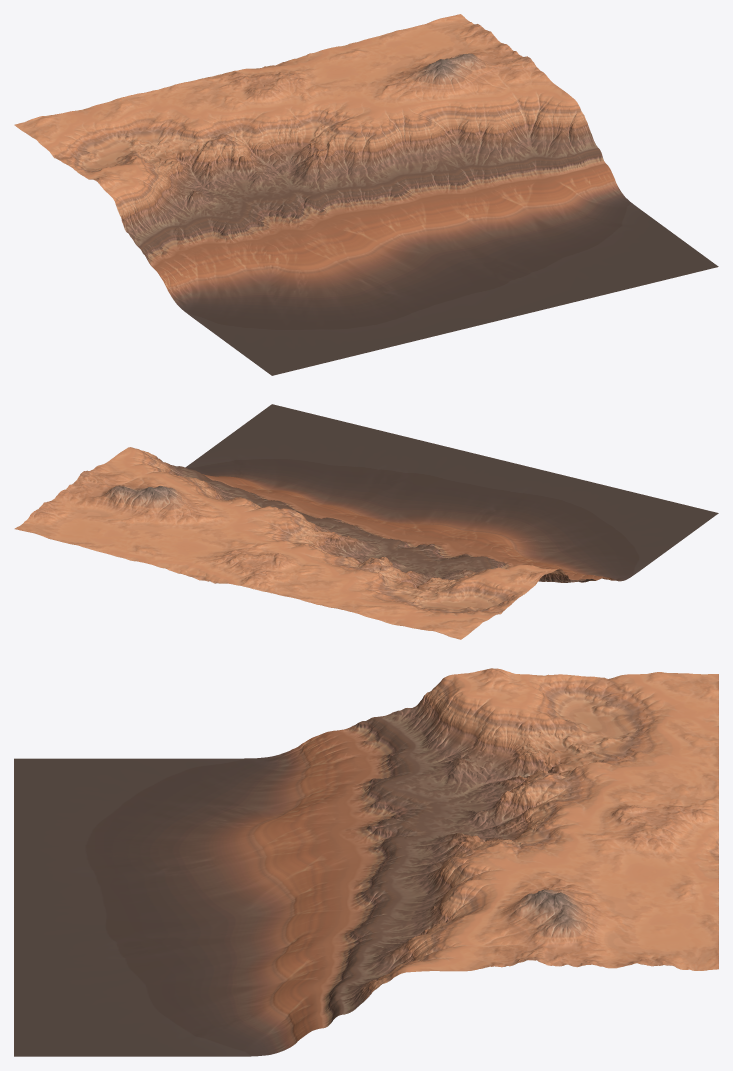
The model's file is canyon_cliff_face_low_poly.glb.
3 renders of one model, top to bottom at view 1: azimuth 30°, elevation 25°; view 2: azimuth 150°, elevation 25°; view 3: azimuth 270°, elevation 25°, orthographic. The views are drawn at different scales.
Visible parts, largest first — view 1: Object_2, Object_3, Object_4, Object_6, Object_5, Object_7; view 2: Object_2, Object_3, Object_4, Object_6, Object_5, Object_7; view 3: Object_2, Object_3, Object_4, Object_6, Object_5, Object_7.
Boxes of the visible parts, left/top/right/bottom form: Object_2: left=14, top=14, right=718, bottom=375; Object_3: left=33, top=41, right=588, bottom=235; Object_4: left=26, top=19, right=520, bottom=221; Object_6: left=36, top=88, right=536, bottom=329; Object_5: left=31, top=53, right=584, bottom=202; Object_7: left=81, top=159, right=361, bottom=318; Object_2: left=14, top=404, right=718, bottom=639; Object_3: left=109, top=459, right=466, bottom=633; Object_4: left=49, top=485, right=565, bottom=635; Object_6: left=172, top=473, right=586, bottom=628; Object_5: left=83, top=452, right=524, bottom=634; Object_7: left=381, top=529, right=631, bottom=593; Object_2: left=14, top=668, right=718, bottom=1056; Object_3: left=213, top=681, right=717, bottom=1006; Object_4: left=356, top=668, right=717, bottom=965; Object_6: left=59, top=668, right=688, bottom=972; Object_5: left=366, top=681, right=716, bottom=991; Object_7: left=212, top=676, right=542, bottom=872.
Size of the model in its own units: 0.9998 by 0.1727 by 0.9998.
1 material, 1 textured.
